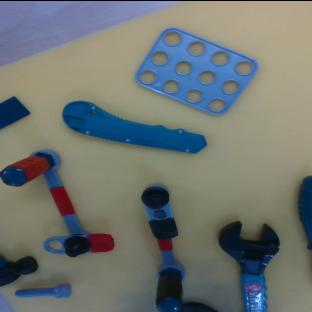non_pass: (138, 181, 190, 312)
pass: (0, 138, 117, 279)
